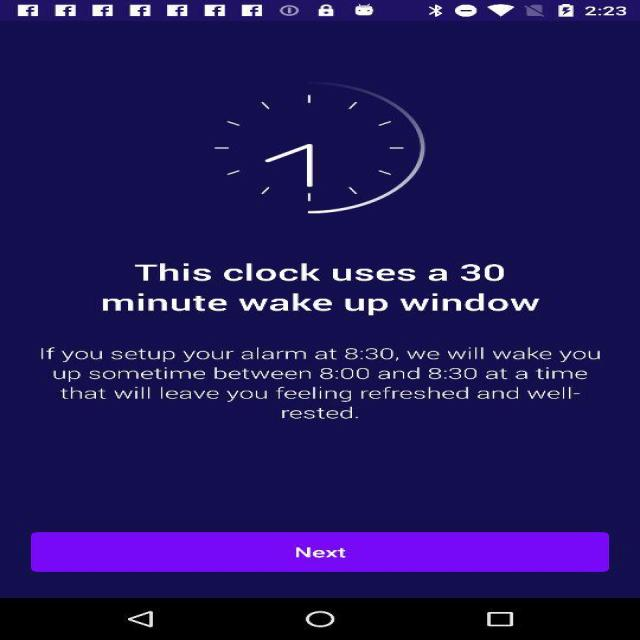button: (31, 501, 640, 612)
icon: (153, 51, 570, 224)
text: (44, 241, 640, 438)
